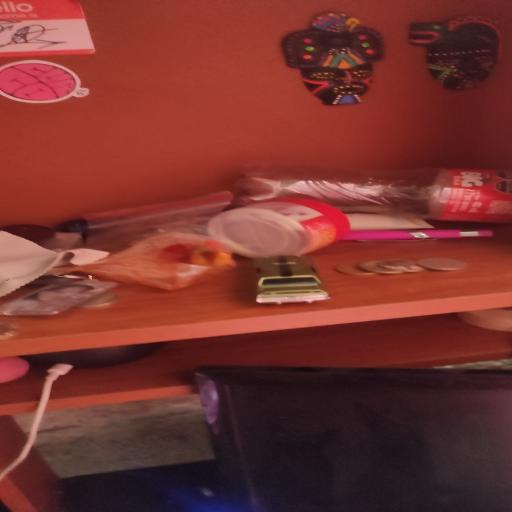Carrito: (253, 256, 330, 304)
